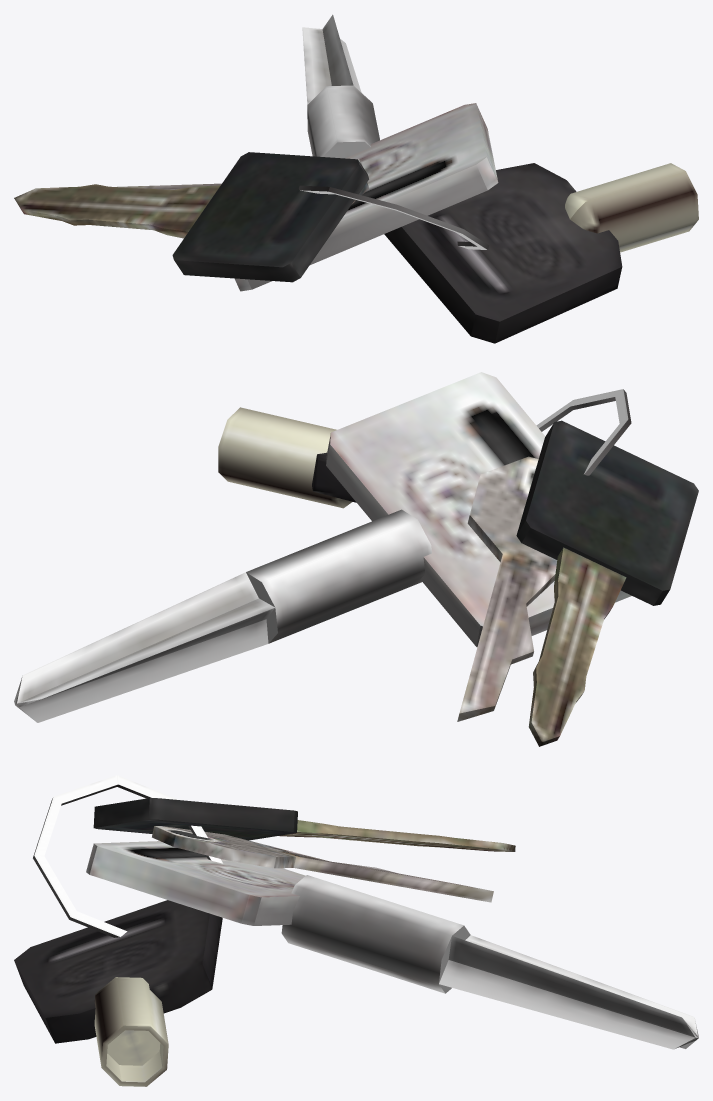
Rendered from ZhiBanShi_01_yaoshi_01.FBX.
The picture shows the model from 3 angles, top to bottom: view 1: azimuth 30°, elevation 25°; view 2: azimuth 150°, elevation 25°; view 3: azimuth 270°, elevation 25°; orthographic projection. The views are drawn at different scales.
Visible parts, largest first — view 1: ZhiBanShi_yaoshi_01; view 2: ZhiBanShi_yaoshi_01; view 3: ZhiBanShi_yaoshi_01.
Boxes of the visible parts, <box> form: ZhiBanShi_yaoshi_01: <box>14,14,698,343</box>; ZhiBanShi_yaoshi_01: <box>14,372,698,746</box>; ZhiBanShi_yaoshi_01: <box>14,775,698,1086</box>.
Size of the model in its own units: 46.95 by 14.17 by 57.29.
